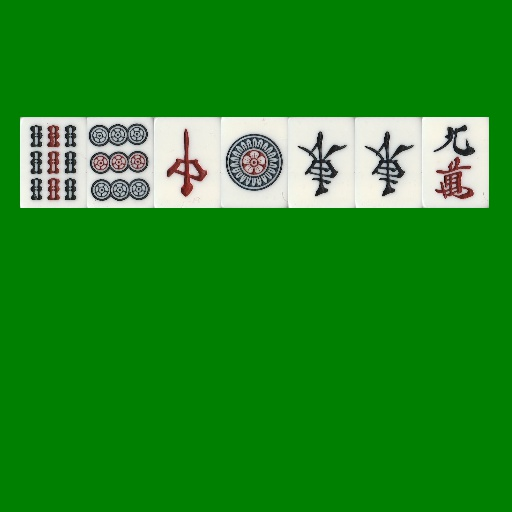1p: (221, 117, 288, 208)
9m: (422, 117, 489, 208)
9p: (87, 117, 154, 208)
9s: (20, 117, 87, 208)
east: (288, 117, 355, 208), (355, 117, 422, 208)
tyun: (154, 117, 221, 208)
